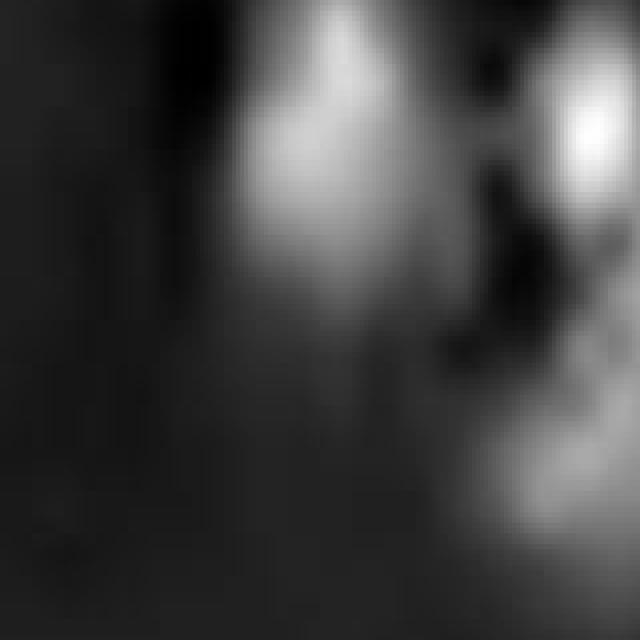person: (473, 1, 640, 620), (213, 1, 469, 390)
